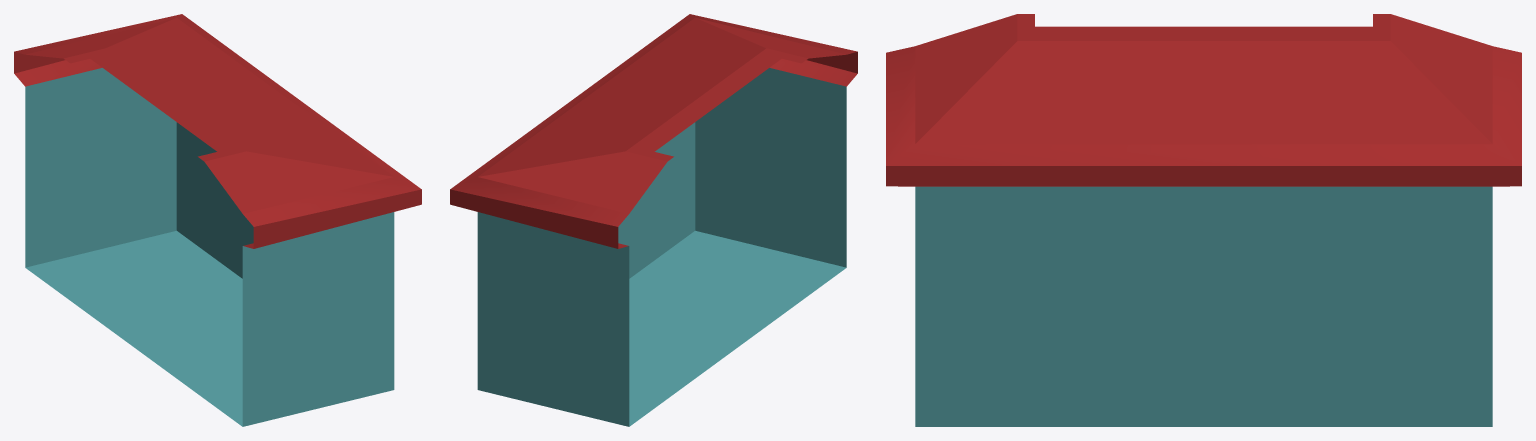
The model's file is Nachbarhaus_2.fbx.
3 views of the same model, side by side, from view 1: azimuth 30°, elevation 25°; view 2: azimuth 150°, elevation 25°; view 3: azimuth 270°, elevation 25° (orthographic). The views are drawn at different scales.
Parts seen in each view (by area): view 1: Nachbarhaus2; view 2: Nachbarhaus2; view 3: Nachbarhaus2.
Part boxes in pixels (left/top/right/bottom): Nachbarhaus2: left=14, top=14, right=421, bottom=426; Nachbarhaus2: left=450, top=14, right=857, bottom=426; Nachbarhaus2: left=886, top=14, right=1521, bottom=426.
Size of the model in its own units: 242 by 326 by 597.
